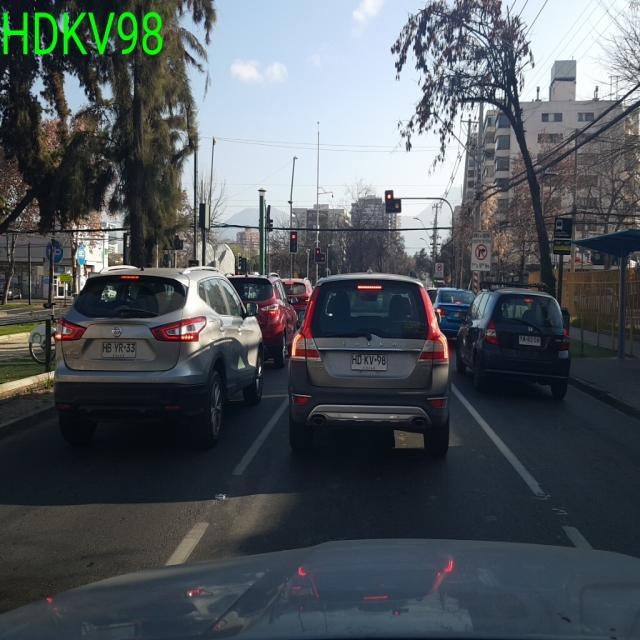Bike: (28, 313, 58, 364)
Car: (0, 536, 639, 639), (51, 263, 264, 447), (285, 271, 451, 457), (454, 286, 571, 400)
Traffic-light: (289, 231, 297, 253)
